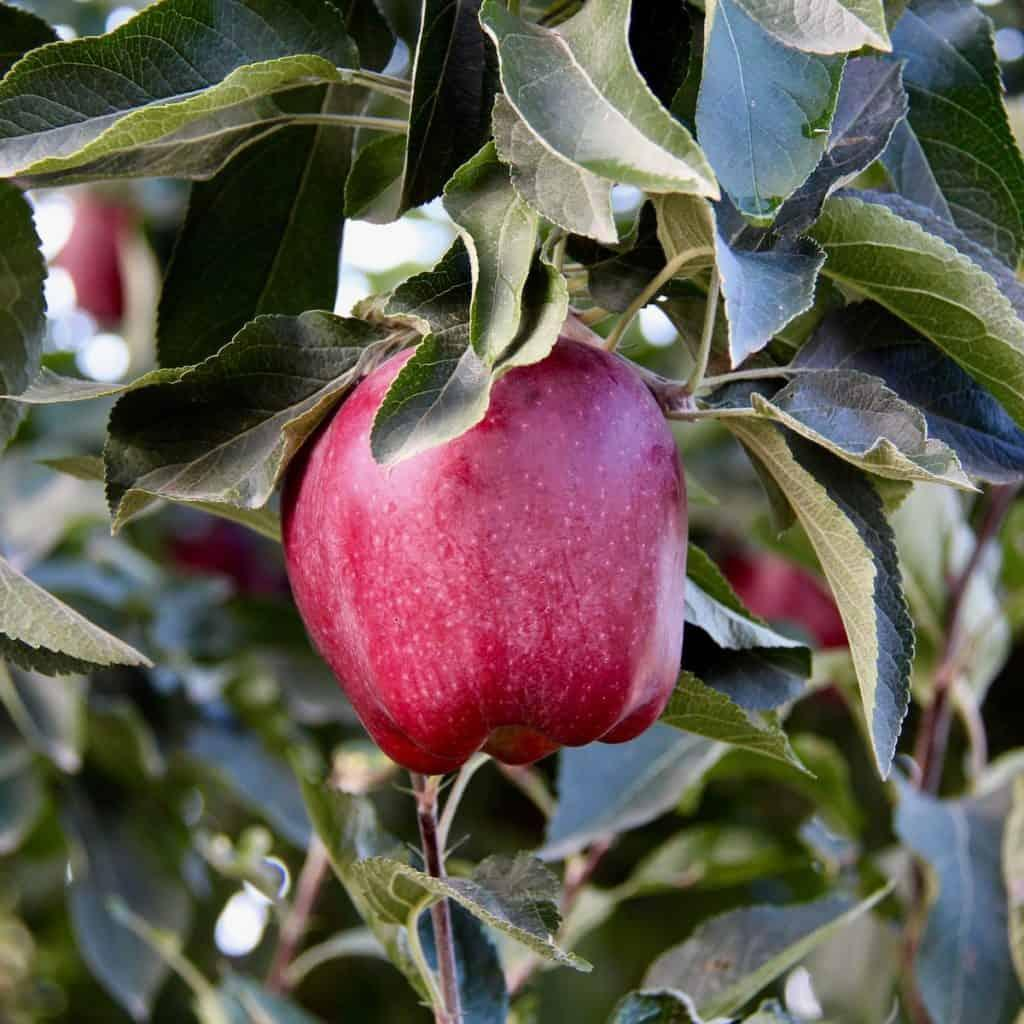apple: (289, 328, 688, 791)
